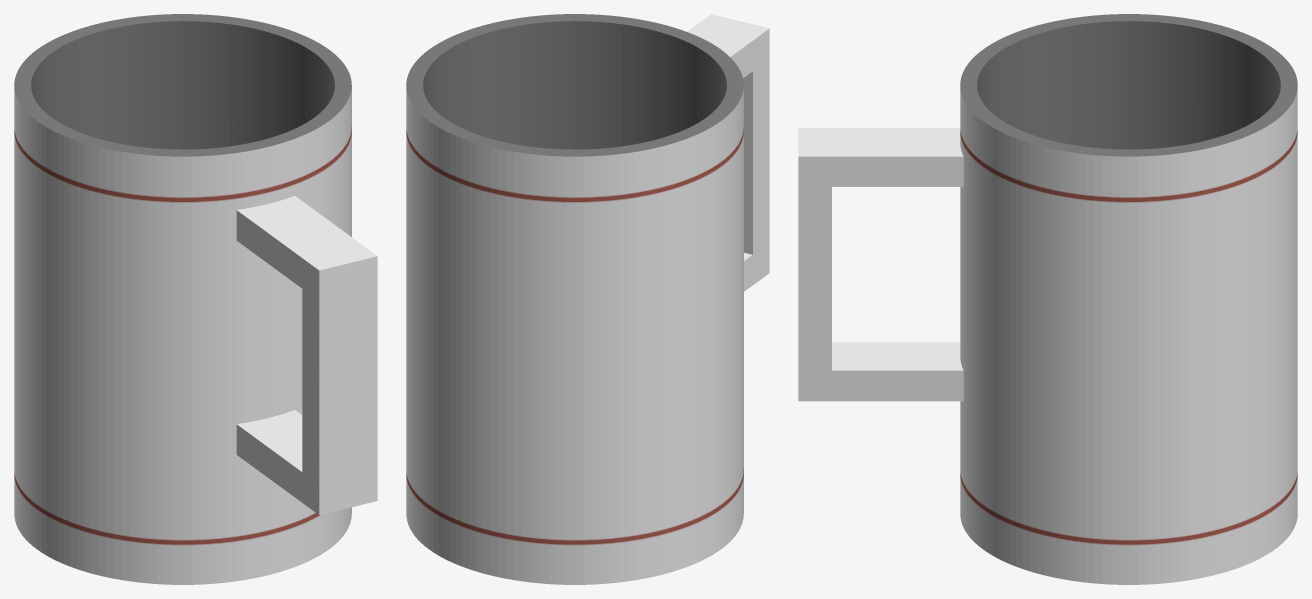
Rendered from CeramicCup.fbx.
3 renders of one model, left to right at view 1: azimuth 30°, elevation 25°; view 2: azimuth 150°, elevation 25°; view 3: azimuth 270°, elevation 25°, orthographic.
Parts seen in each view (by area): view 1: node_id5 (×2), node_id8; view 2: node_id5 (×2), node_id8; view 3: node_id5 (×2), node_id8.
Boxes of the visible parts, box(x1,y1,x2,y2) form: node_id5 (×2): box(14, 14, 351, 584); node_id8: box(236, 196, 377, 515); node_id5 (×2): box(406, 14, 743, 584); node_id8: box(687, 14, 769, 291); node_id5 (×2): box(960, 14, 1297, 584); node_id8: box(798, 128, 963, 401).
Size of the model in its own units: 0.3657 by 0.512 by 0.5413.
3 materials, 1 textured.
